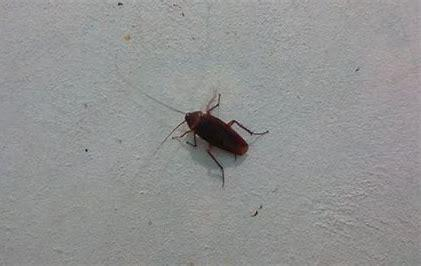cockroach: (133, 74, 284, 201)
